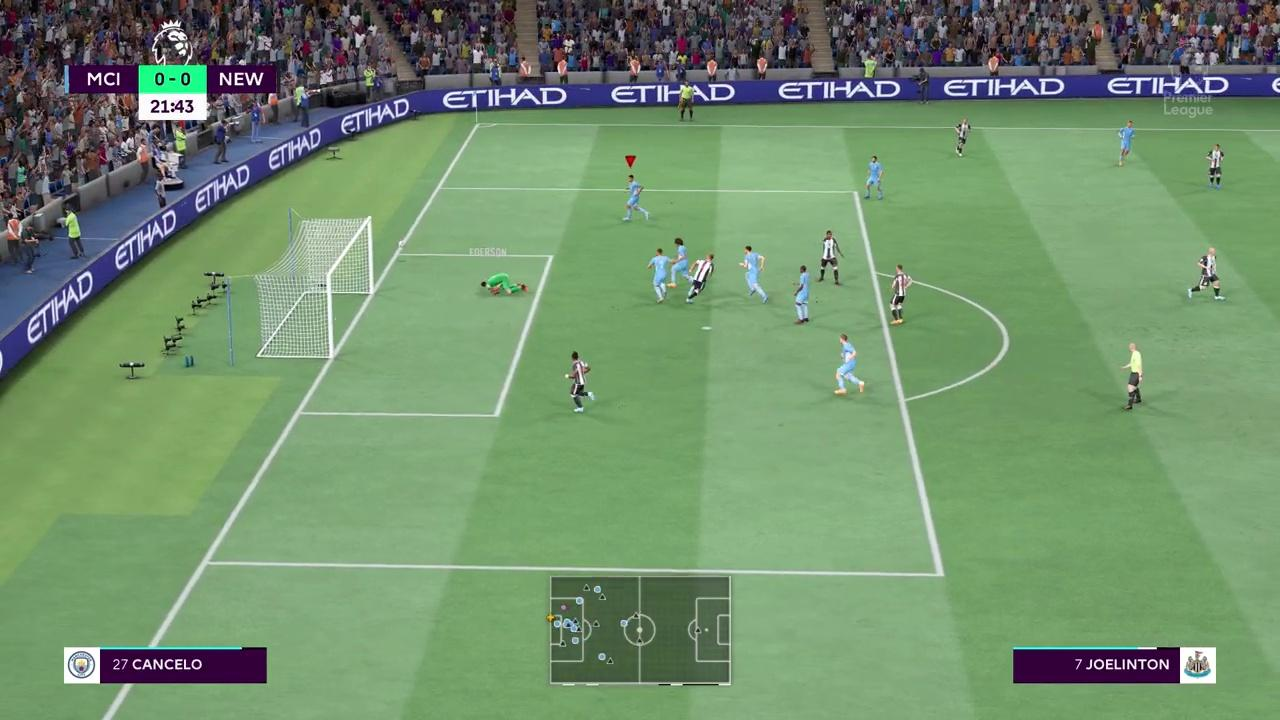scoreboard: (66, 64, 278, 91)
timestamp: (141, 98, 209, 118)
